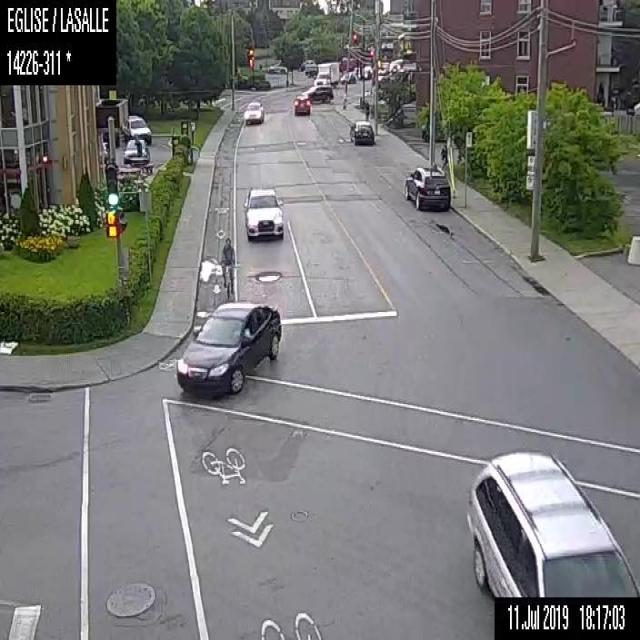cyclist: (218, 234, 236, 298)
pedestrian: (440, 140, 448, 172), (133, 132, 141, 155), (363, 99, 370, 121)
vehicle: (466, 448, 639, 596), (175, 299, 280, 395), (242, 184, 284, 239), (404, 166, 450, 210), (121, 135, 151, 166), (122, 110, 152, 138), (347, 117, 374, 144), (302, 84, 334, 105), (312, 62, 338, 84), (244, 99, 262, 124), (292, 94, 311, 115), (268, 62, 286, 74), (340, 72, 357, 84)
